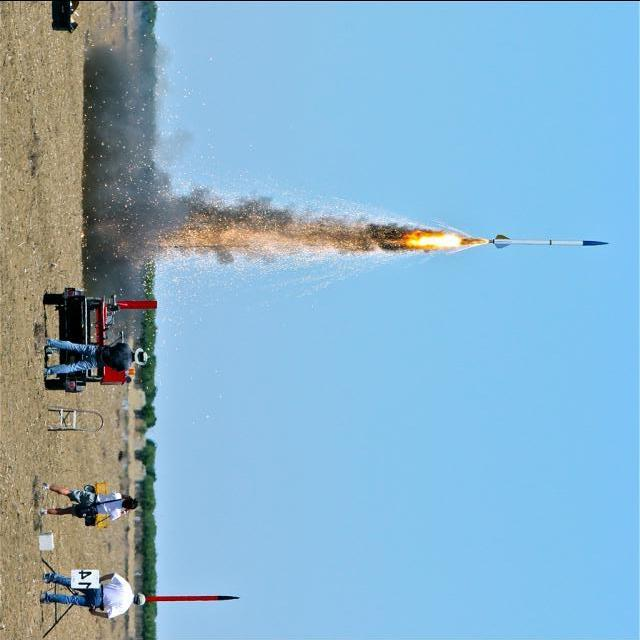Missile: (493, 235, 608, 248), (143, 594, 240, 602)
